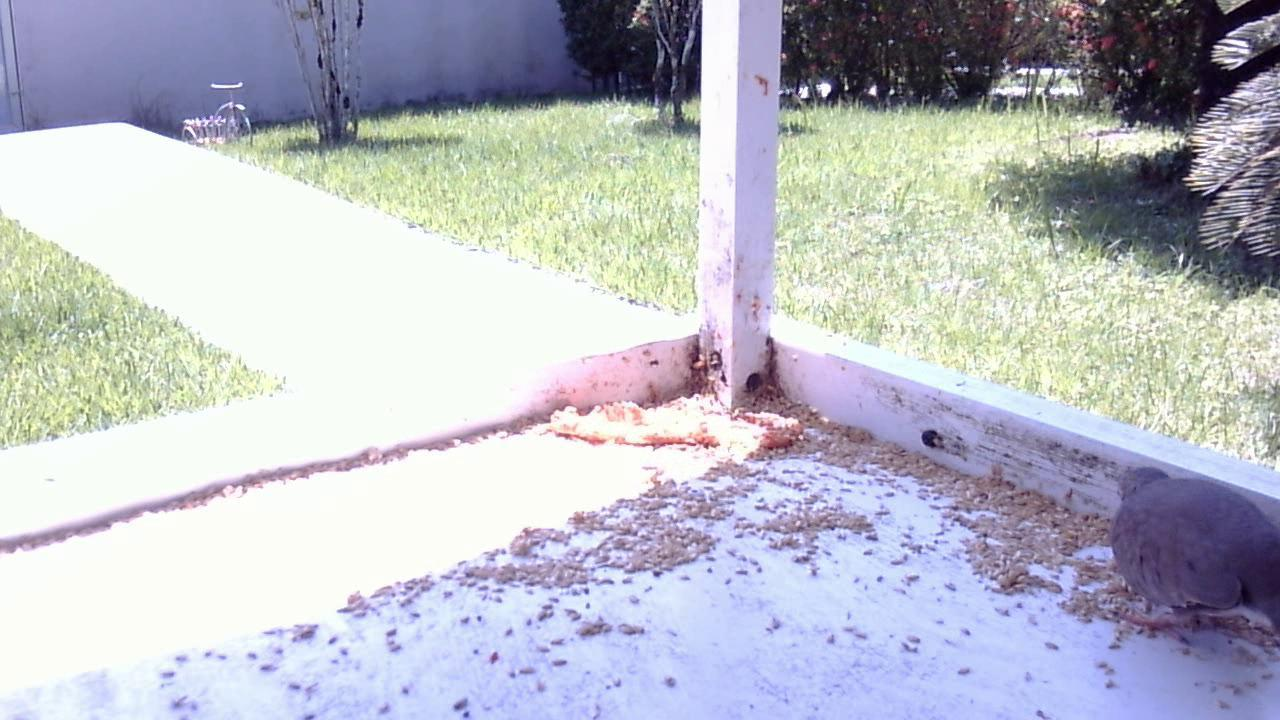rolinha: (1092, 460, 1280, 652)
